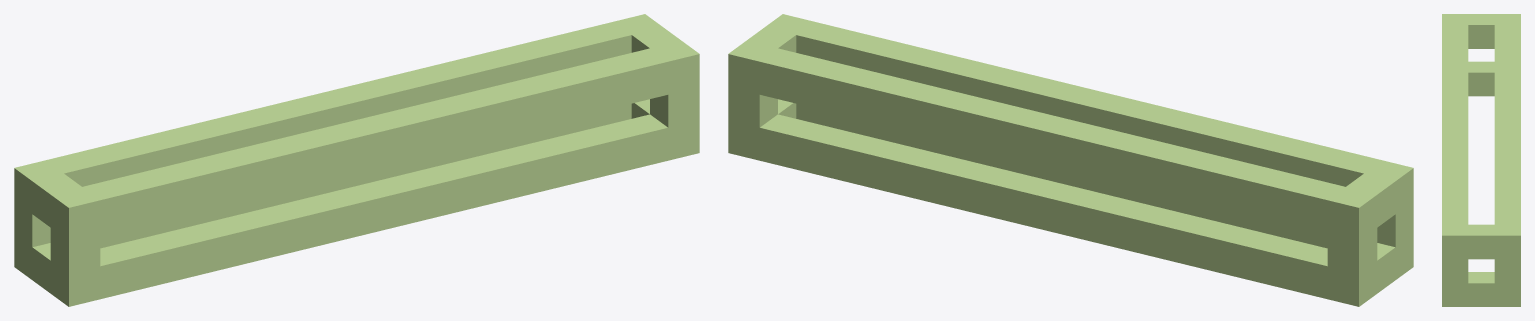
Rendered from Hunter_10.fbx.
3 views of the same model, side by side, from view 1: azimuth 30°, elevation 25°; view 2: azimuth 150°, elevation 25°; view 3: azimuth 270°, elevation 25° (orthographic). The views are drawn at different scales.
Parts seen in each view (by area): view 1: Hunter_10; view 2: Hunter_10; view 3: Hunter_10.
Boxes of the visible parts, x1,y1,x2,y2 form: Hunter_10: (14, 14, 699, 306); Hunter_10: (728, 14, 1413, 306); Hunter_10: (1442, 14, 1520, 306).
Bounding box in the file's own units: 2000 × 300 × 300.
